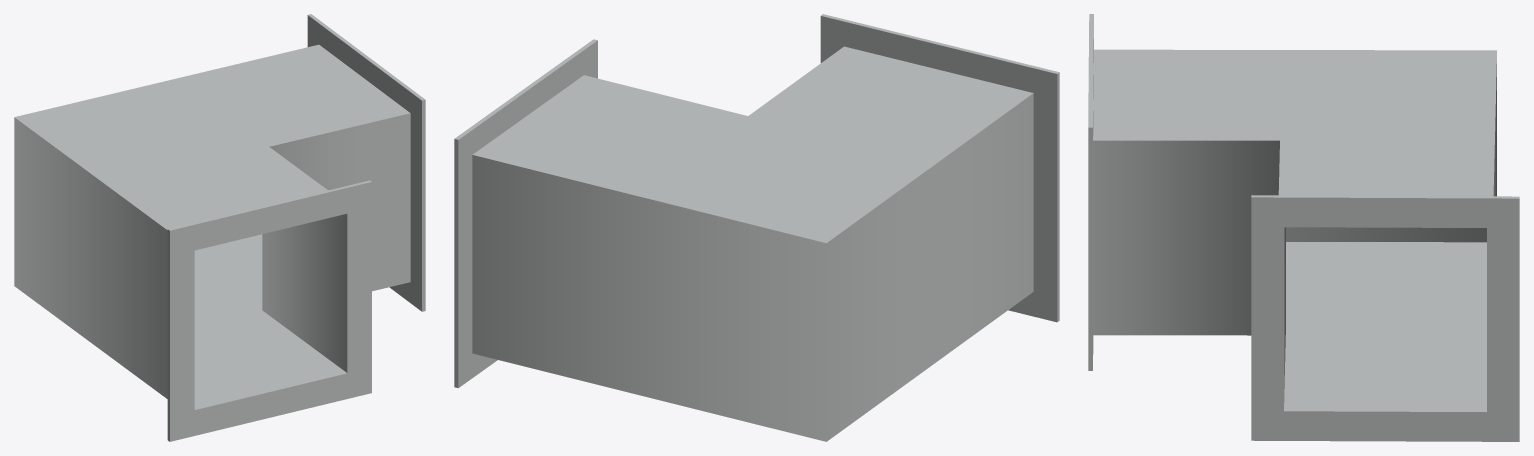
Rendered from Vent_02.FBX.
The picture shows the model from 3 angles, left to right: view 1: azimuth 30°, elevation 25°; view 2: azimuth 150°, elevation 25°; view 3: azimuth 270°, elevation 25°; orthographic projection. The views are drawn at different scales.
Visible parts, largest first — view 1: Vent_02; view 2: Vent_02; view 3: Vent_02.
Part boxes in pixels (box(x1,y1,x2,y2)): Vent_02: box(14, 14, 425, 441); Vent_02: box(454, 14, 1059, 441); Vent_02: box(1088, 14, 1519, 441).
Bounding box in the file's own units: 81.31 × 50 × 80.36.
Materials: 1 (1 with a texture image).
